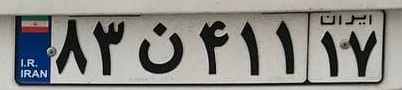character: (135, 18, 193, 79), (89, 17, 129, 79), (194, 15, 233, 78), (53, 18, 89, 79), (269, 16, 303, 78), (347, 28, 382, 80), (237, 17, 265, 79), (315, 29, 344, 79)
